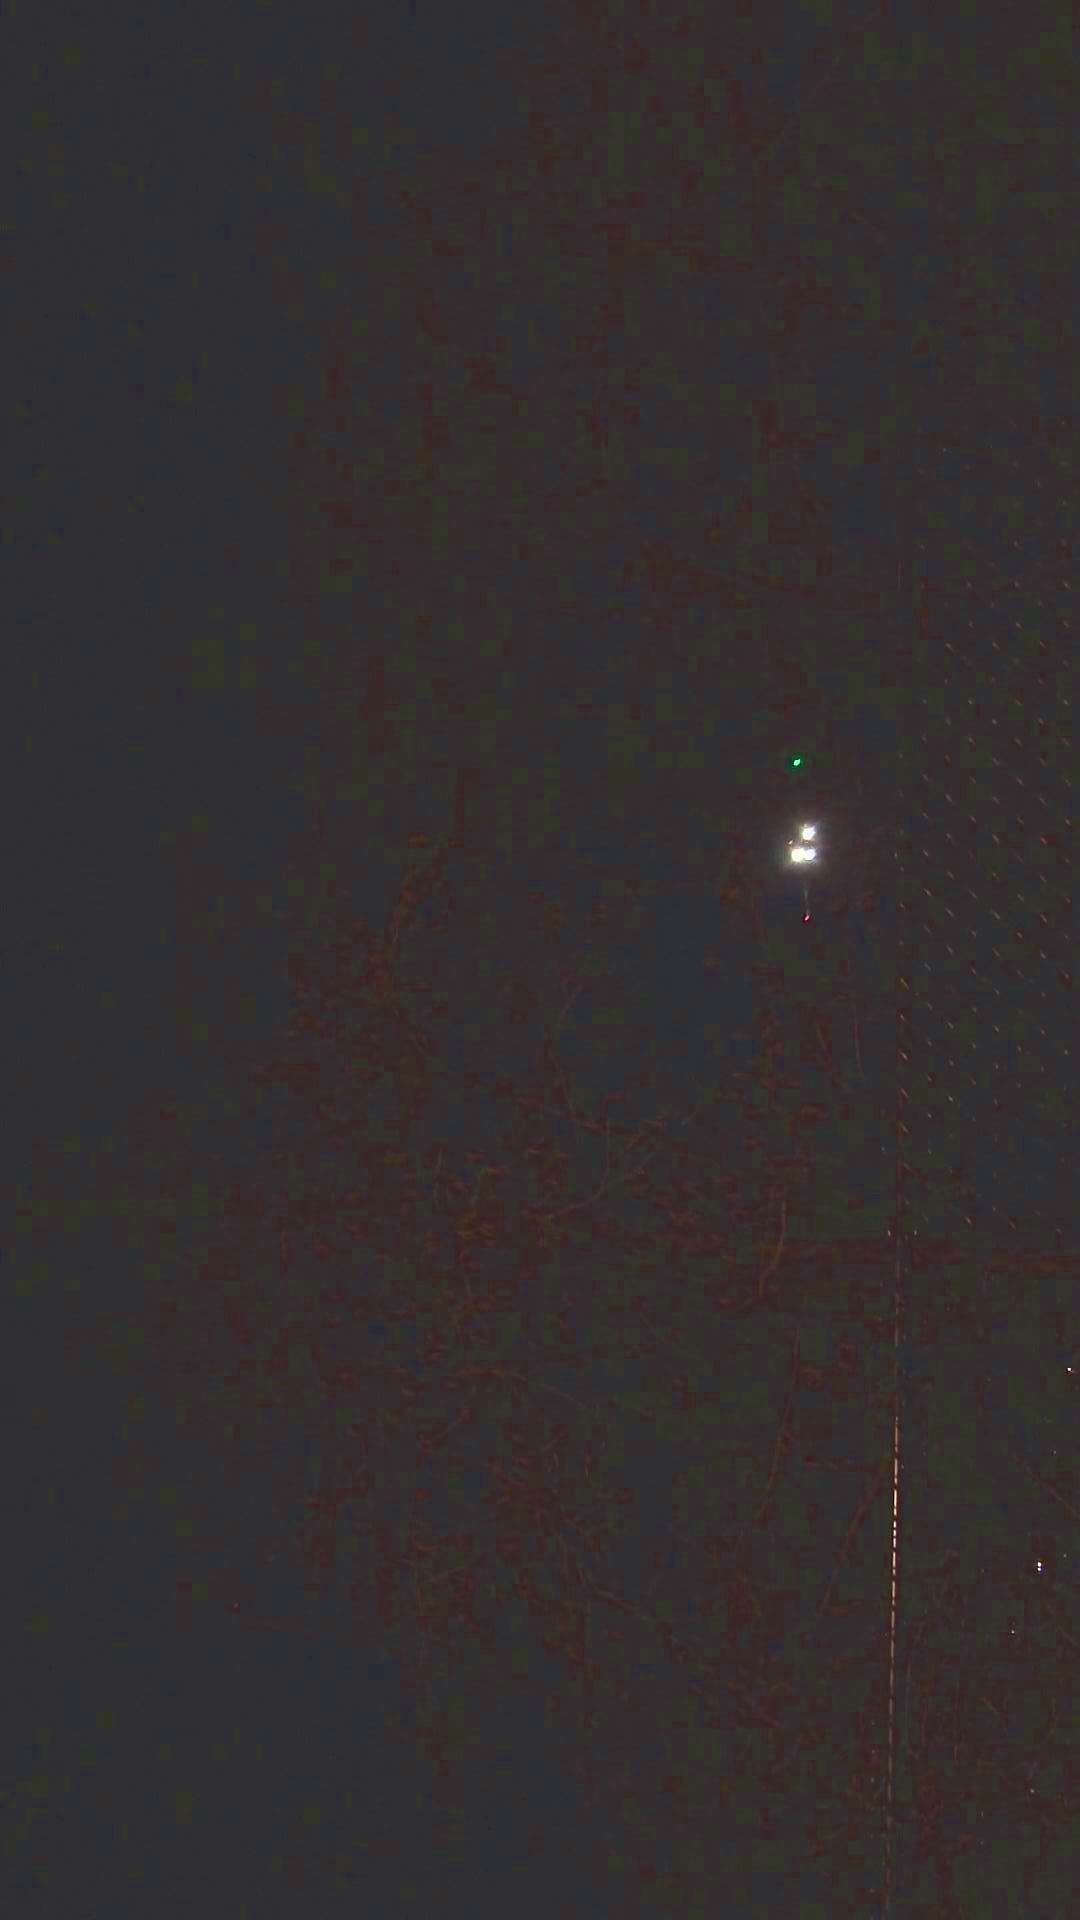Plane: (750, 779, 853, 956)
